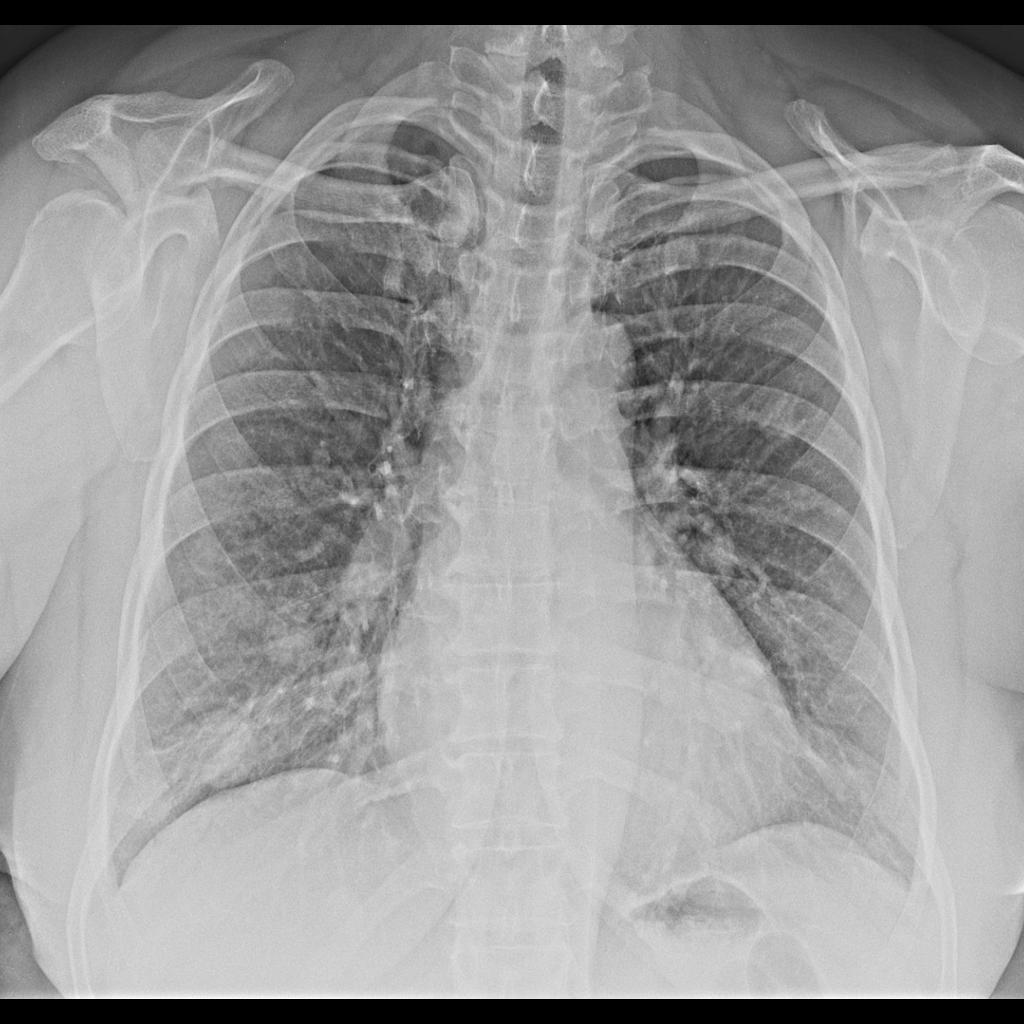Nodule: (259, 592, 316, 674)
